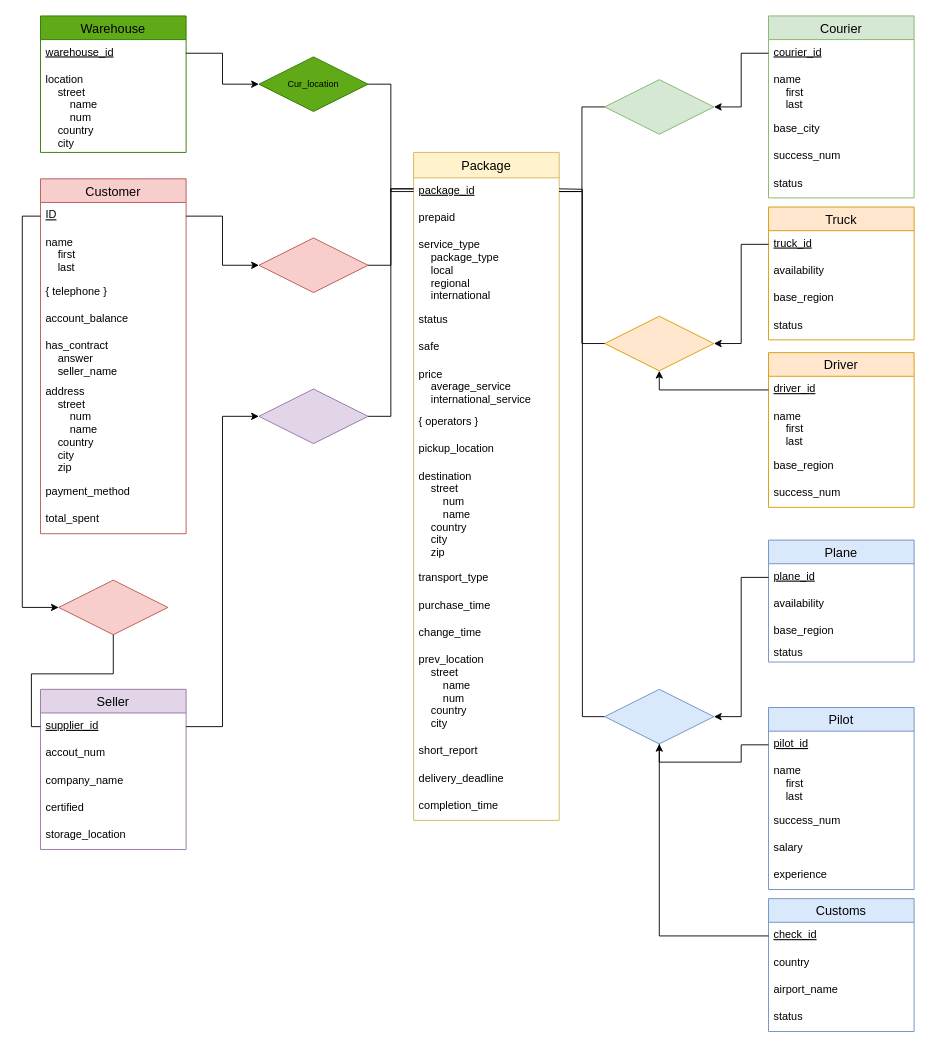
The diagram is 930 pixels wide and 1050 high, and some of its shapes have lost their labels. Here are the shapes that lost their labels. From the top down, the centre of each, then its label:
the point at 659,106: Local_unit
the point at 313,265: Order_bill
the point at 659,343: Regional_unit
the point at 313,416: Supply
the point at 113,607: Contract
the point at 659,716: International_unit
